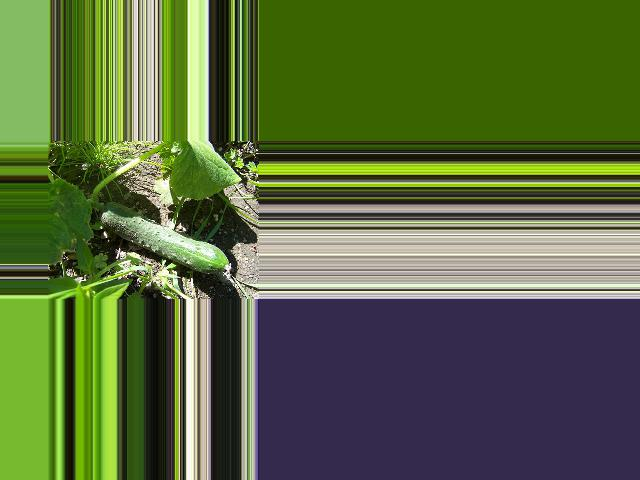cucumber: (98, 201, 230, 274)
